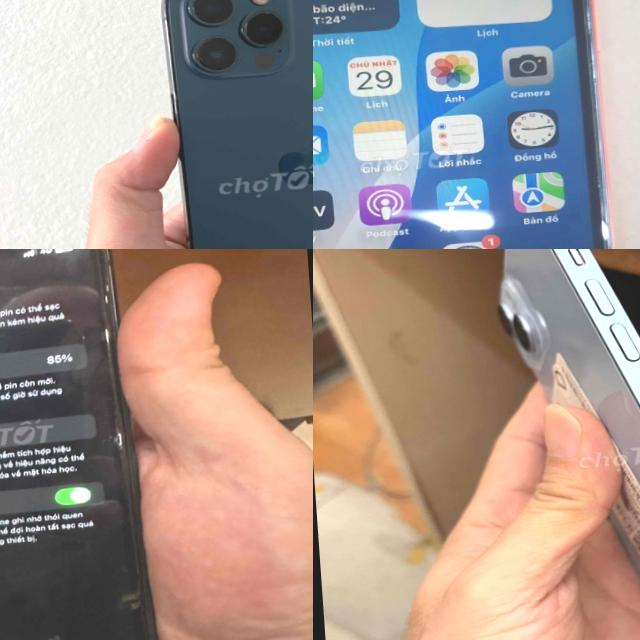gen_11: (0, 249, 172, 640)
gen_12_13: (156, 0, 313, 249)
gen_14: (490, 249, 640, 640)
gen_x_xs: (313, 0, 640, 249)
scratch: (99, 275, 128, 453)
